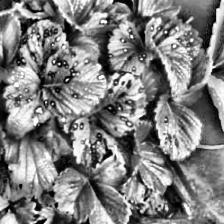Leaf Spot: (41, 47, 108, 116), (91, 72, 150, 138), (0, 66, 52, 140), (153, 93, 203, 162), (15, 19, 70, 81), (146, 36, 192, 96), (144, 15, 203, 61), (106, 20, 152, 76), (75, 12, 125, 56), (69, 116, 107, 170), (44, 0, 103, 31), (98, 128, 136, 175), (206, 63, 224, 142), (205, 0, 224, 64)
